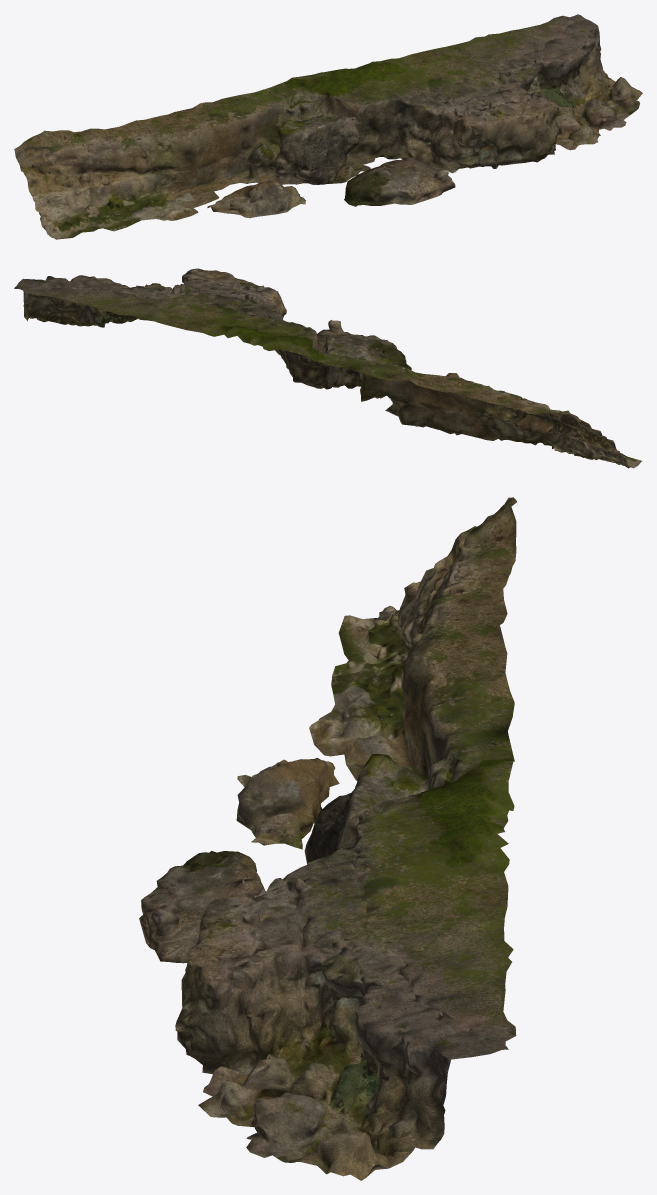
File: coastal_cliff_04.glb
The picture shows the model from 3 angles, top to bottom: view 1: azimuth 30°, elevation 25°; view 2: azimuth 150°, elevation 25°; view 3: azimuth 270°, elevation 25°; orthographic projection. The views are drawn at different scales.
Visible parts, largest first — view 1: coastal_cliff_04; view 2: coastal_cliff_04; view 3: coastal_cliff_04.
Boxes of the visible parts, x1,y1,x2,y2 form: coastal_cliff_04: [14, 14, 642, 239]; coastal_cliff_04: [14, 268, 642, 468]; coastal_cliff_04: [139, 497, 516, 1180].
Bounding box in the file's own units: 86.77 × 10.98 × 24.23.
Materials: 1 (1 with a texture image).
